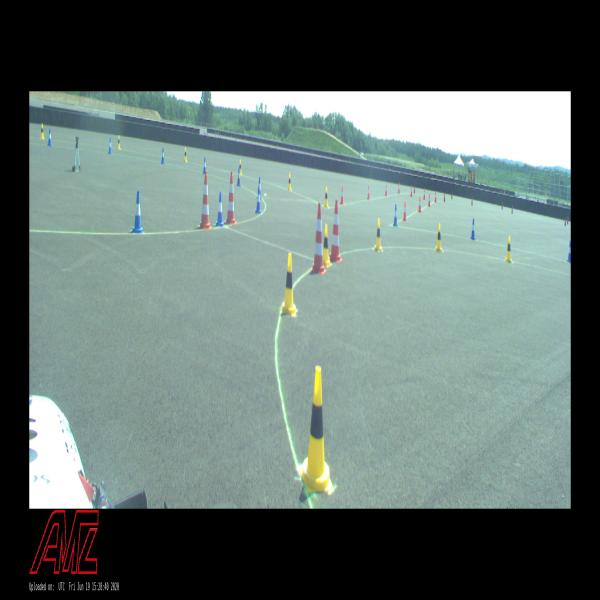blue_cone: (132, 190, 144, 233), (216, 193, 224, 226), (255, 187, 262, 213), (470, 218, 476, 240), (393, 204, 398, 227), (257, 177, 262, 199), (108, 138, 113, 154), (567, 241, 571, 261), (237, 168, 241, 186), (48, 129, 52, 146), (161, 148, 165, 164), (203, 157, 206, 174)
large_orange_cone: (311, 202, 326, 275), (329, 200, 342, 263), (199, 171, 212, 229), (224, 172, 237, 225)
orange_cone: (402, 202, 407, 221), (418, 196, 422, 213), (340, 187, 344, 204), (427, 193, 431, 207), (367, 184, 370, 200), (434, 191, 437, 203), (423, 189, 426, 200), (385, 184, 387, 196), (410, 185, 412, 197), (398, 183, 400, 194)
unknown_cone: (564, 216, 566, 226), (501, 202, 503, 210), (511, 206, 513, 214), (471, 198, 473, 205), (444, 192, 445, 202), (567, 216, 568, 225), (414, 186, 415, 194), (451, 194, 452, 200)
yellow_cone: (300, 366, 334, 491), (282, 252, 296, 314), (323, 224, 330, 266), (374, 218, 382, 251), (505, 235, 512, 263), (436, 224, 442, 252), (324, 186, 328, 208), (40, 123, 45, 140), (288, 174, 292, 190), (117, 135, 121, 150), (184, 148, 187, 163), (240, 160, 242, 175)
